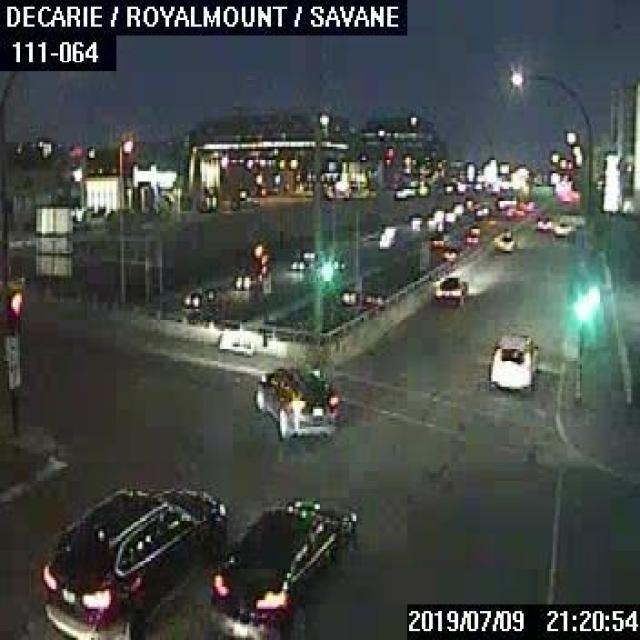vehicle: (39, 485, 227, 637), (211, 500, 365, 638), (250, 360, 342, 437), (484, 331, 538, 393), (433, 271, 467, 302), (491, 227, 515, 251), (534, 213, 553, 230), (182, 291, 201, 305), (289, 258, 304, 268)
